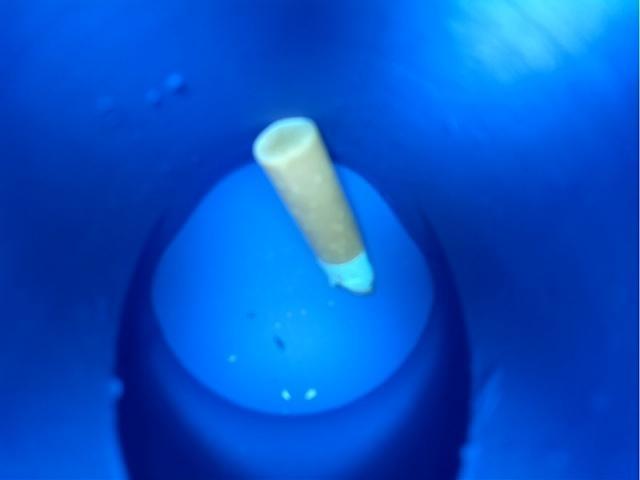megot: (244, 111, 379, 297)
